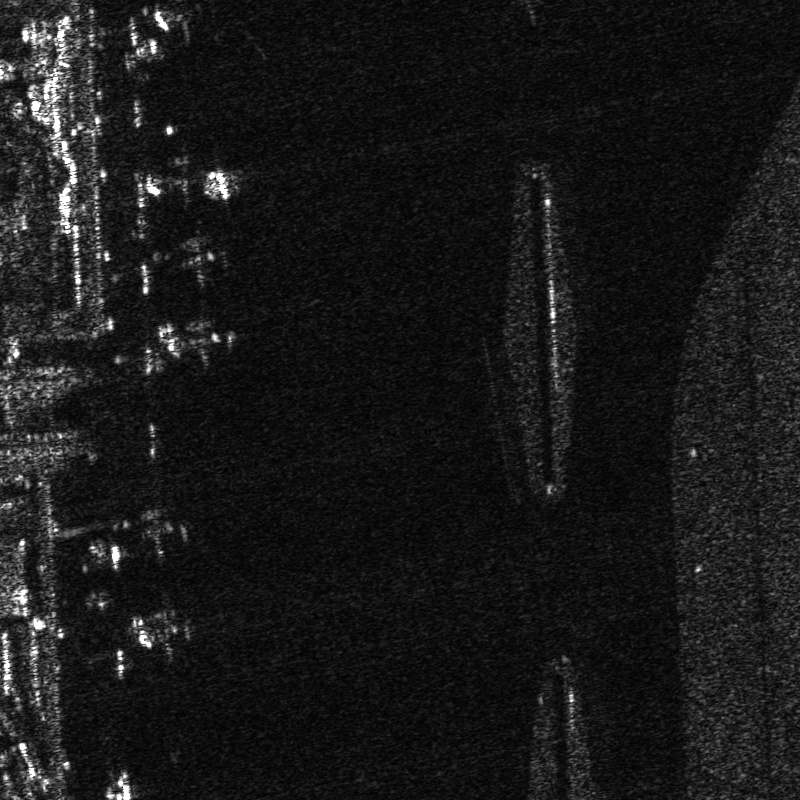A220: (147, 144, 245, 210), (159, 306, 248, 373), (121, 601, 205, 665), (126, 495, 200, 564), (162, 232, 239, 293), (143, 3, 194, 61)
